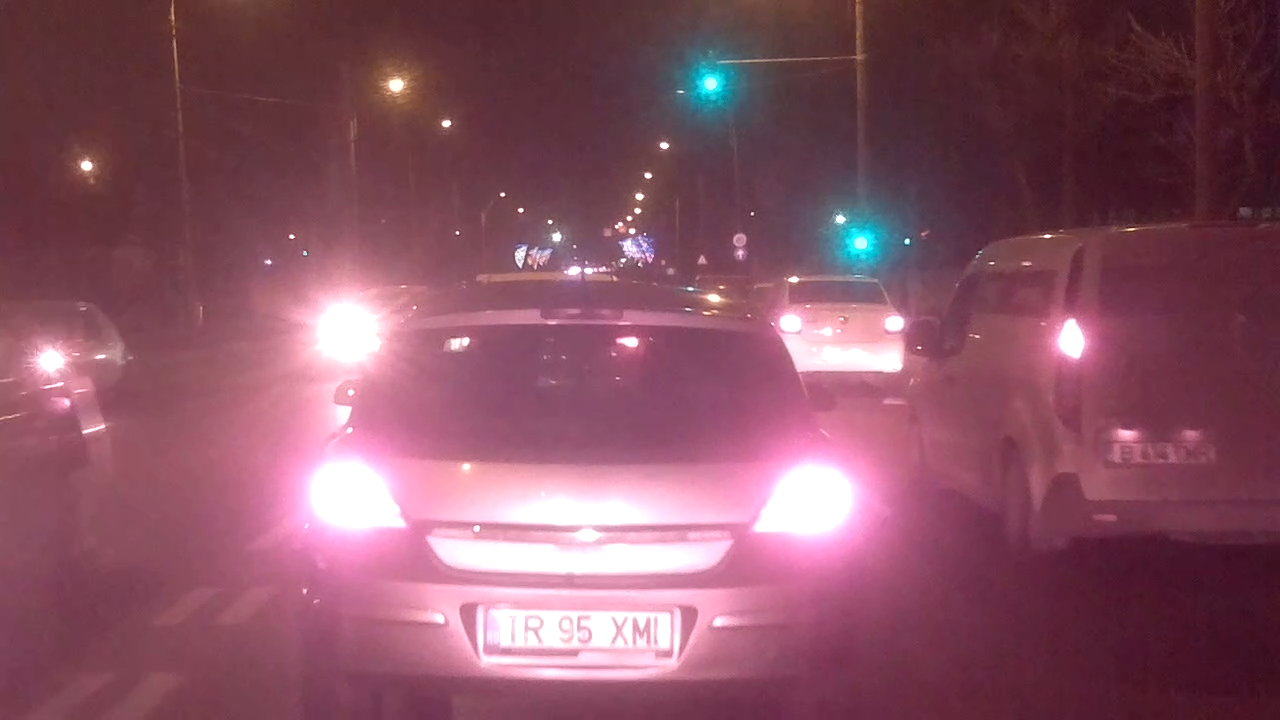license-plate: (475, 601, 679, 657)
